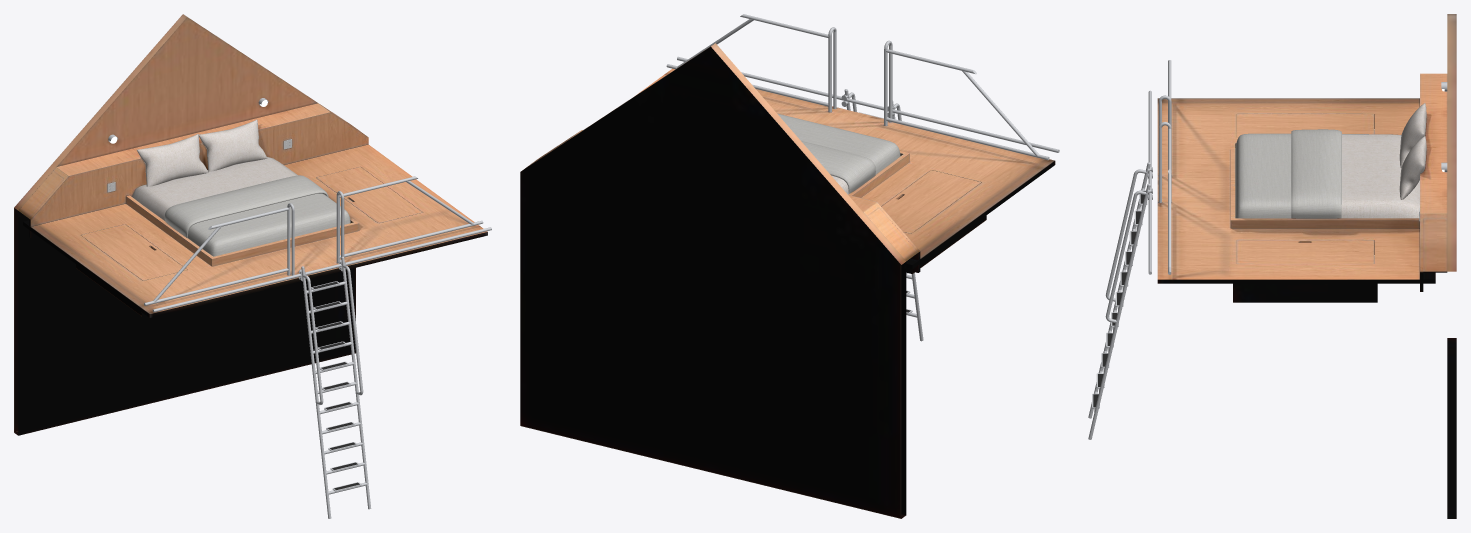
The model's file is Mezzanine King.glb.
The picture shows the model from 3 angles, left to right: view 1: azimuth 30°, elevation 25°; view 2: azimuth 150°, elevation 25°; view 3: azimuth 270°, elevation 25°; orthographic projection. The views are drawn at different scales.
Parts seen in each view (by area): view 1: Interior_Wood_Black_Base_Bed2.001, Interior_Wood_Bed_2, White_fabric_Bed _Bed_2, Alumininum_1_Bed_2, Alumininum_1_Bed.002; view 2: Interior_Wood_Black_Base_Bed2.001, Interior_Wood_Bed_2, Alumininum_1_Bed_2, White_fabric_Bed _Bed_2, Alumininum_1_Bed.002; view 3: Interior_Wood_Bed_2, White_fabric_Bed _Bed_2, Alumininum_1_Bed_2, Interior_Wood_Black_Base_Bed2.001, Alumininum_1_Bed.002.
Part boxes in pixels (left/top/right/bottom): Interior_Wood_Black_Base_Bed2.001: left=14, top=14, right=355, bottom=435; Interior_Wood_Bed_2: left=18, top=103, right=487, bottom=317; White_fabric_Bed _Bed_2: left=132, top=119, right=350, bottom=256; Alumininum_1_Bed_2: left=108, top=98, right=483, bottom=518; Alumininum_1_Bed.002: left=152, top=227, right=491, bottom=312; Interior_Wood_Black_Base_Bed2.001: left=520, top=43, right=906, bottom=518; Interior_Wood_Bed_2: left=526, top=68, right=1055, bottom=273; Alumininum_1_Bed_2: left=666, top=14, right=1049, bottom=341; White_fabric_Bed _Bed_2: left=777, top=113, right=900, bottom=194; Alumininum_1_Bed.002: left=677, top=56, right=1059, bottom=152; Interior_Wood_Bed_2: left=1157, top=73, right=1447, bottom=302; White_fabric_Bed _Bed_2: left=1235, top=103, right=1426, bottom=218; Alumininum_1_Bed_2: left=1088, top=60, right=1447, bottom=439; Interior_Wood_Black_Base_Bed2.001: left=1447, top=14, right=1456, bottom=518; Alumininum_1_Bed.002: left=1148, top=90, right=1151, bottom=274.
Bounding box in the file's own units: 1.88 × 2.01 × 1.62.
9 materials, 5 textured.
